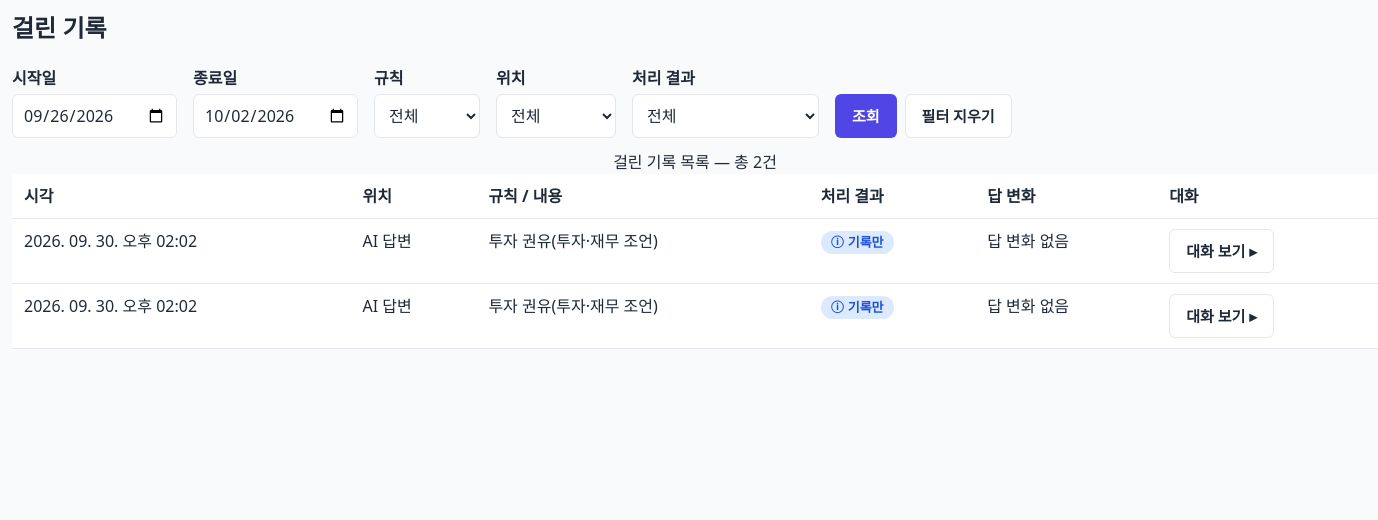
Scenario: GR-5 걸린 기록 › 보존 기간이 지나 파기된 문장과 연결 기록 없음을 안내한다
Click the 1st button "대화 보기 ▸" at (1221, 251), box [1169,229,1274,273]
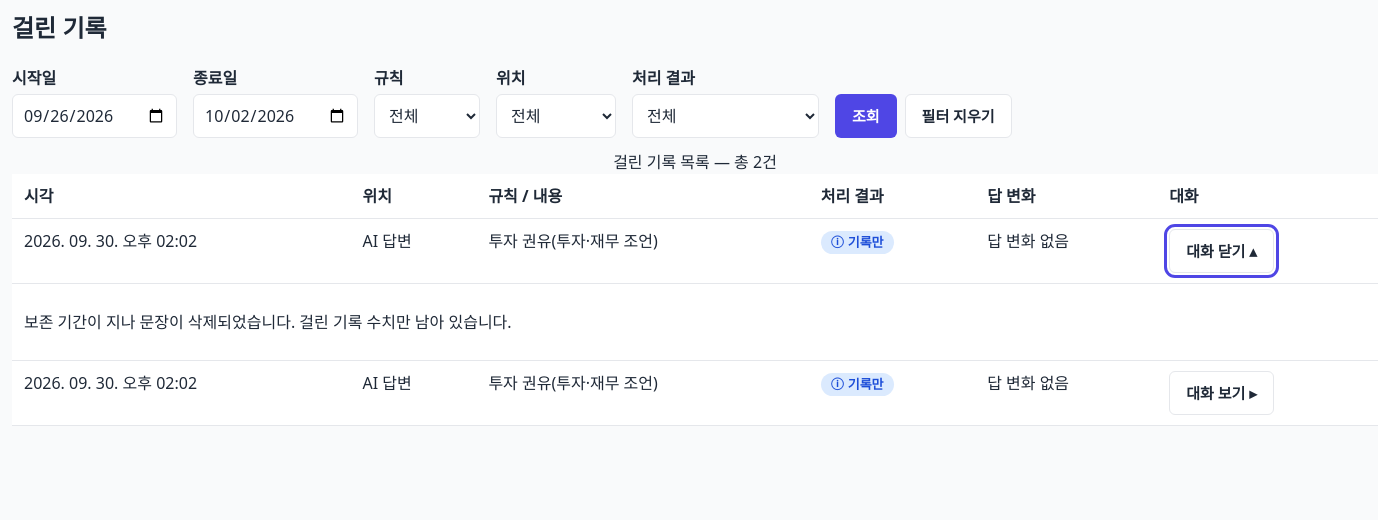
Click the button "대화 보기 ▸" at (1221, 393), box [1169,371,1274,415]
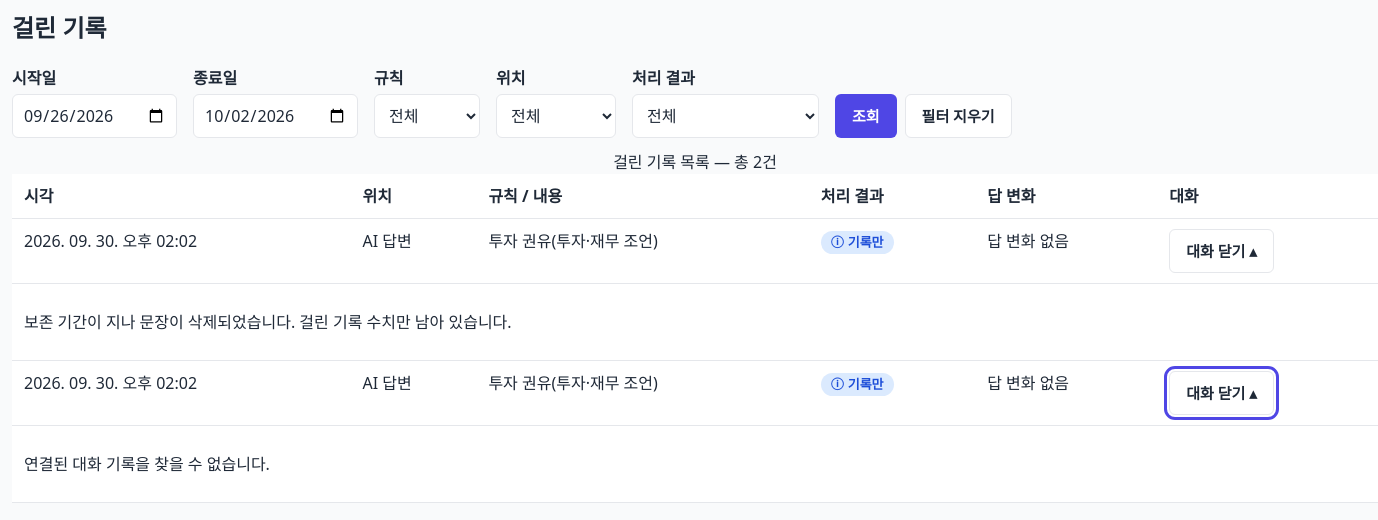
Result: the text "보존 기간이 지나 문장이 삭제되었습니다. 걸린 기록 수치만 남아 있습니다." is shown at [24,311,512,333]
Result: the text "연결된 대화 기록을 찾을 수 없습니다." is shown at [24,453,270,475]
